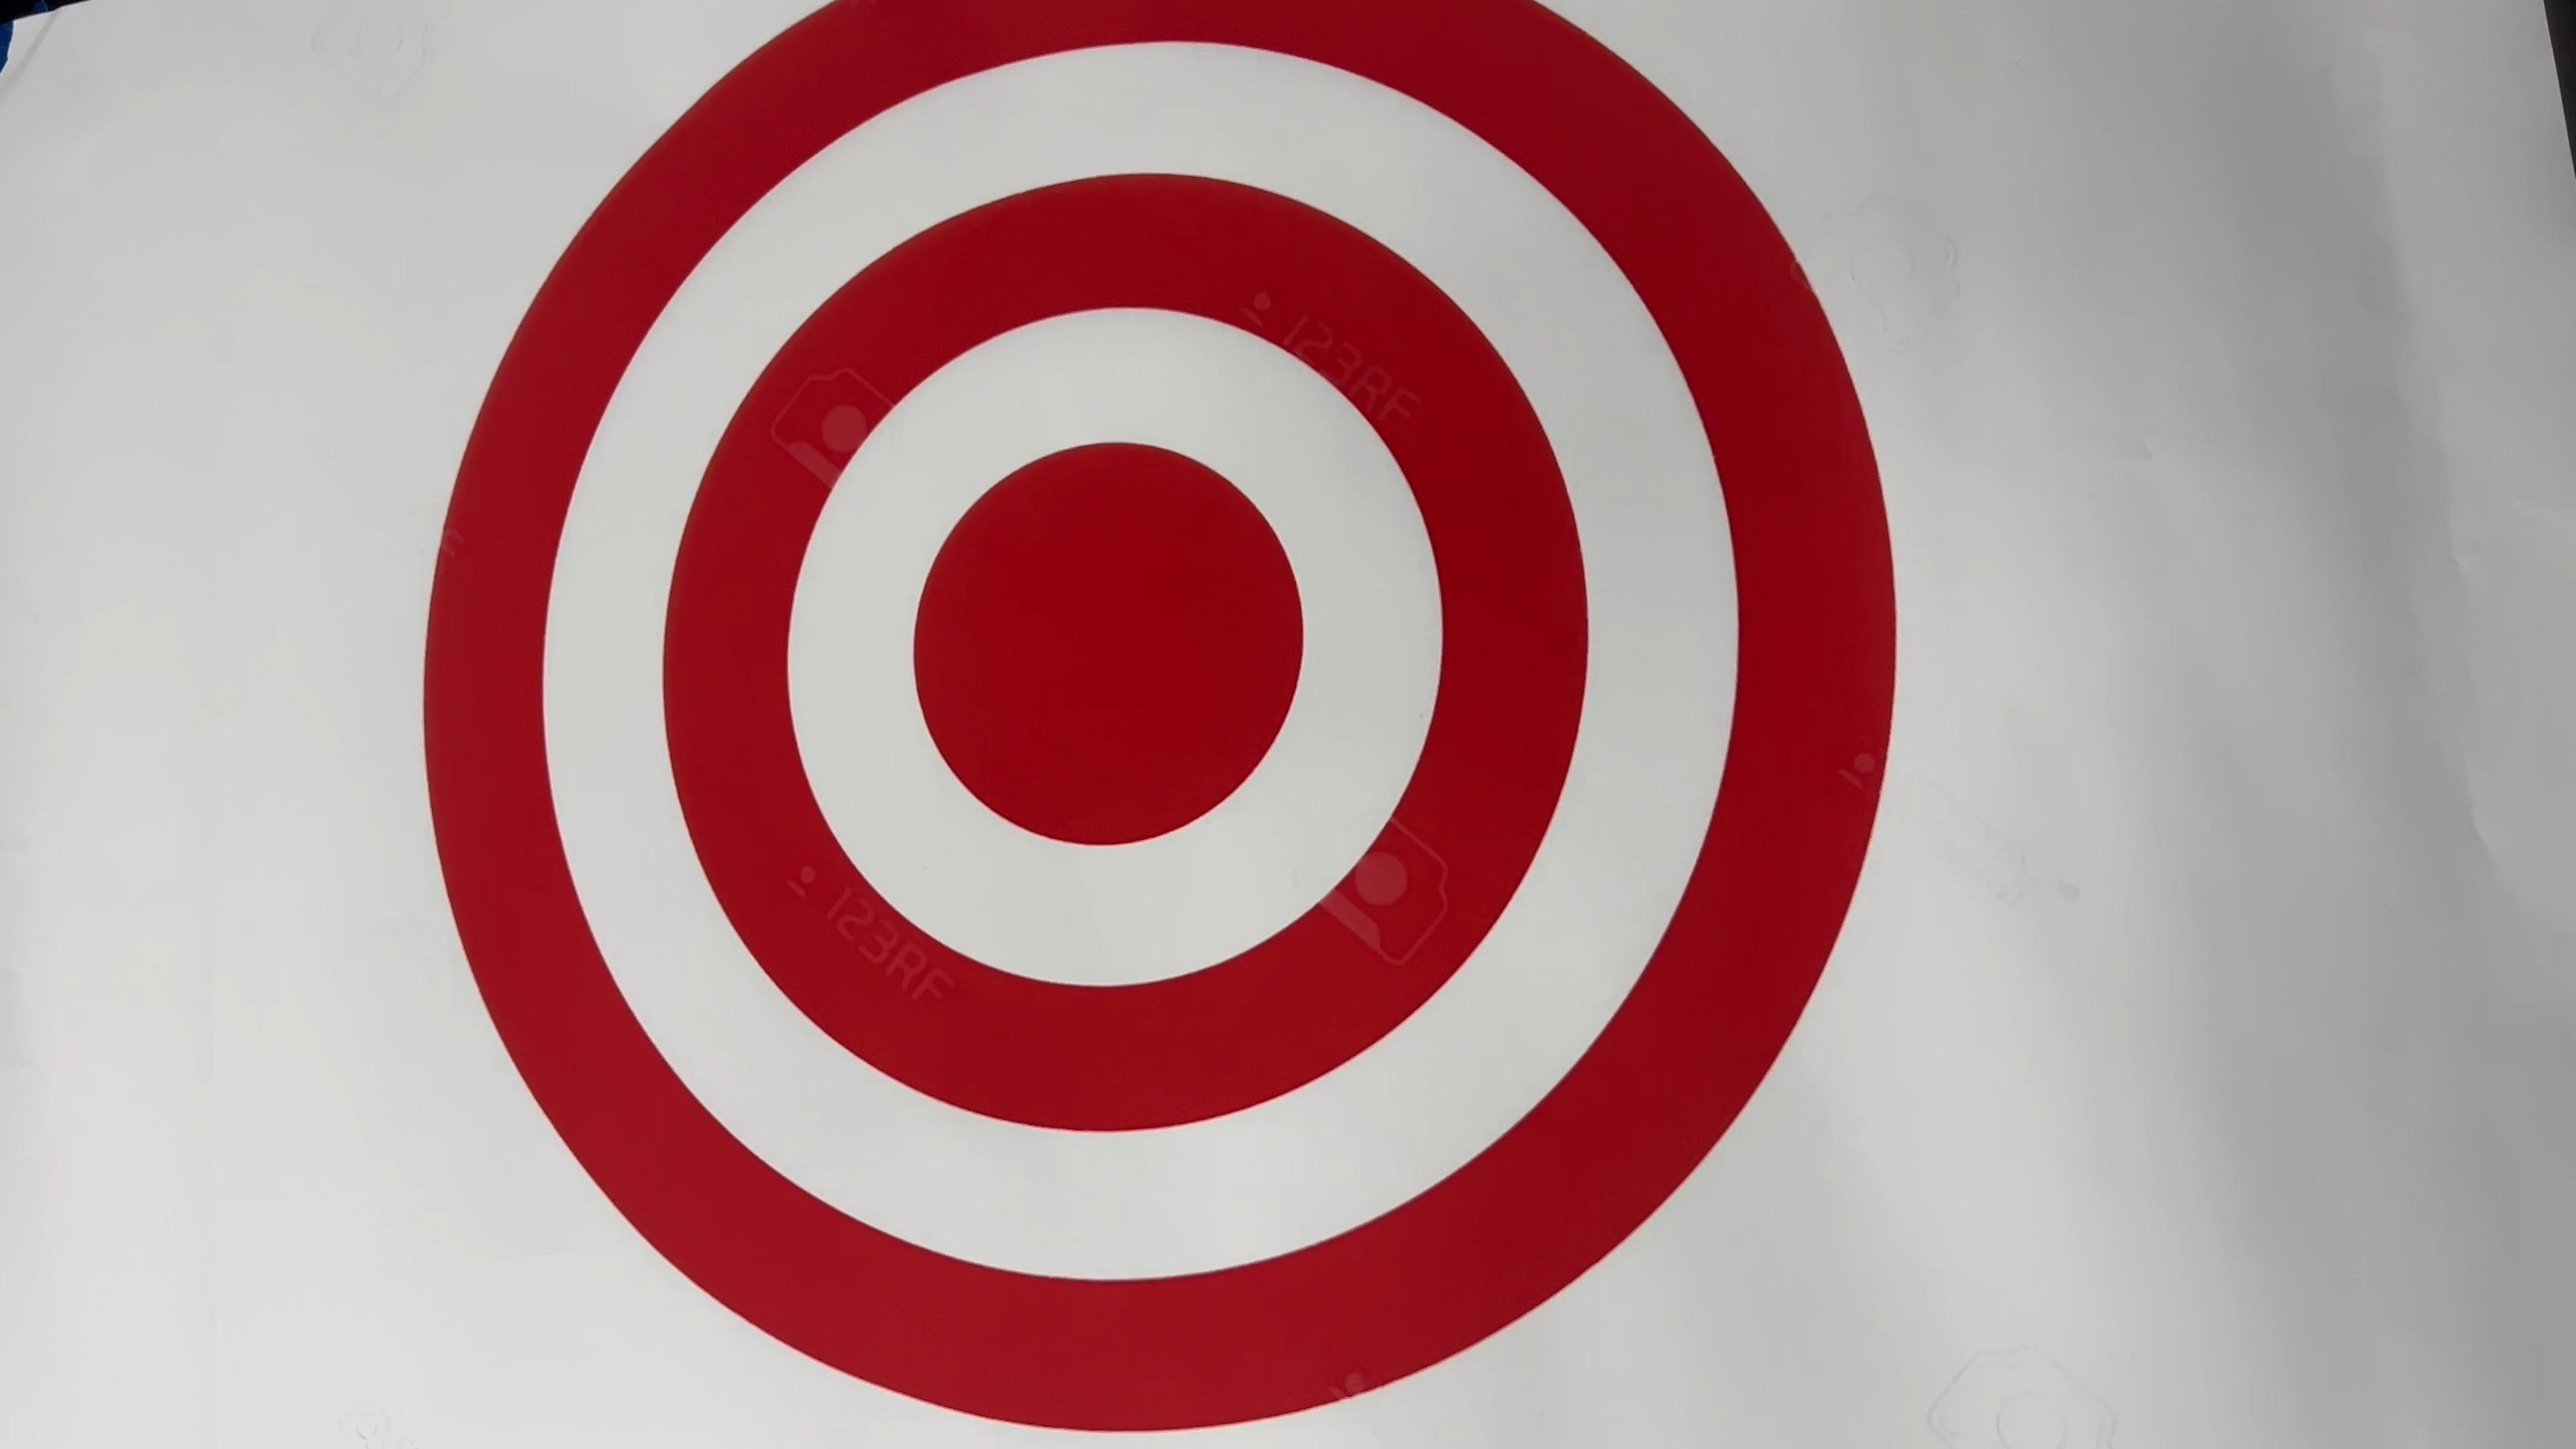target_red: (400, 5, 1932, 1449)
